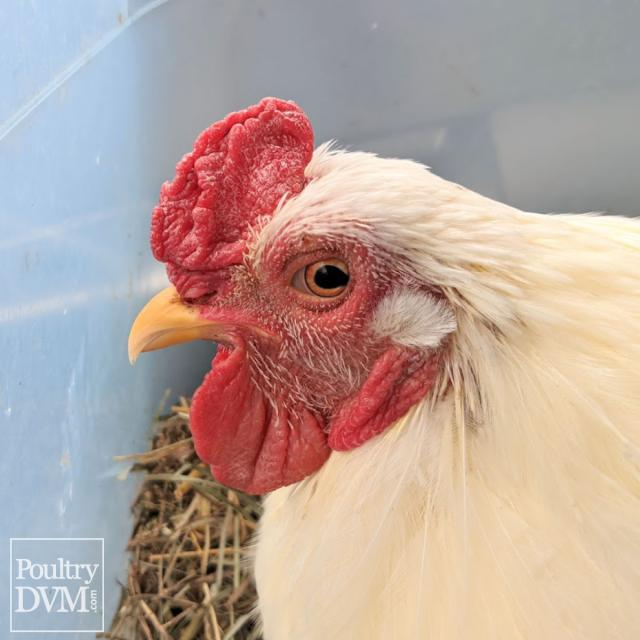Fowl cholera: (127, 93, 473, 504)
